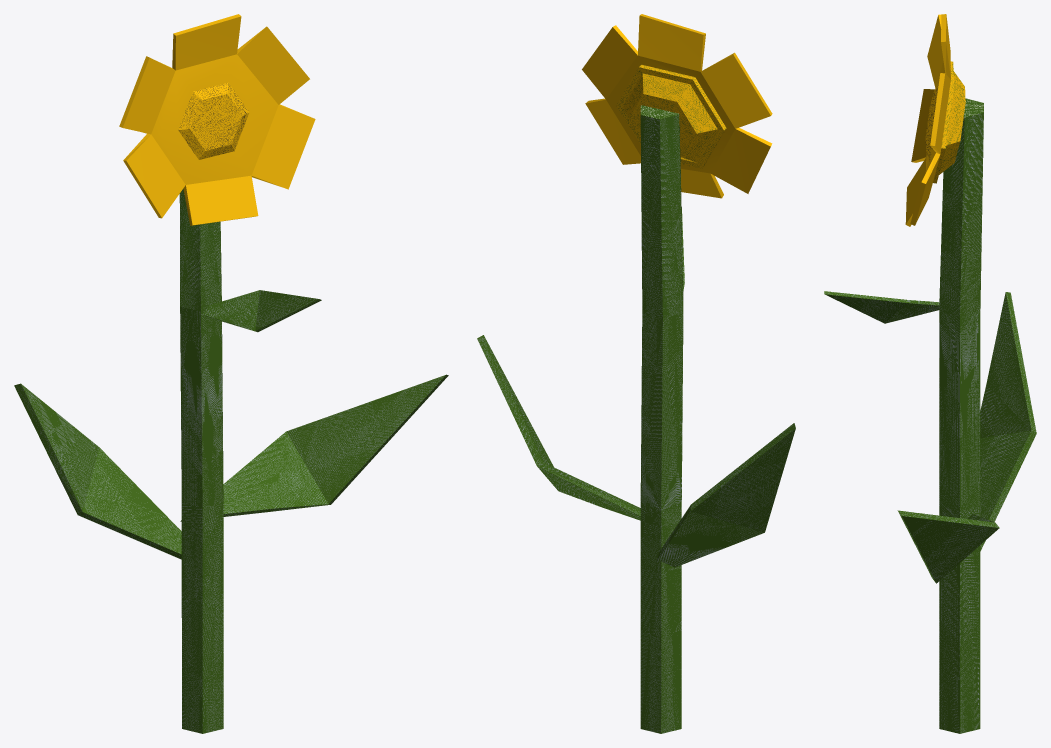
Rendered from Flower_Sunflower_04.fbx.
The picture shows the model from 3 angles, left to right: view 1: azimuth 30°, elevation 25°; view 2: azimuth 150°, elevation 25°; view 3: azimuth 270°, elevation 25°; orthographic projection.
Parts seen in each view (by area): view 1: Model; view 2: Model; view 3: Model.
Part boxes in pixels (box(x1,y1,x2,y2)): Model: box(14, 14, 448, 733); Model: box(477, 14, 795, 733); Model: box(824, 14, 1036, 733).
Bounding box in the file's own units: 133 × 237 × 65.65.
